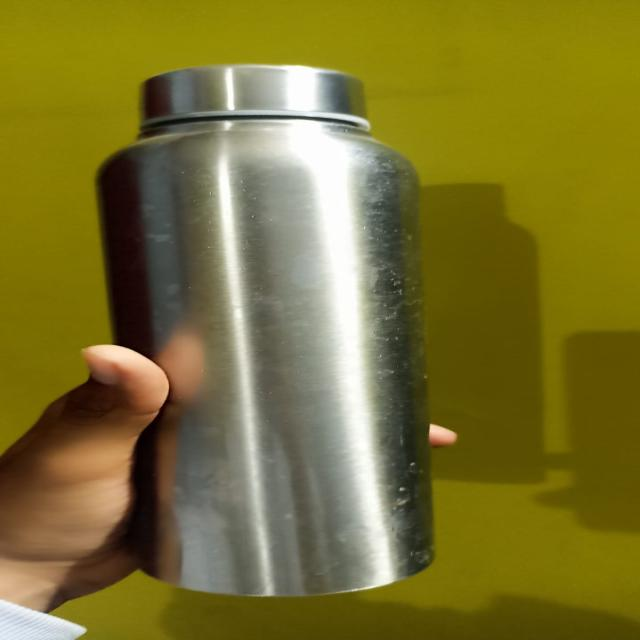bottle: (87, 64, 488, 603)
